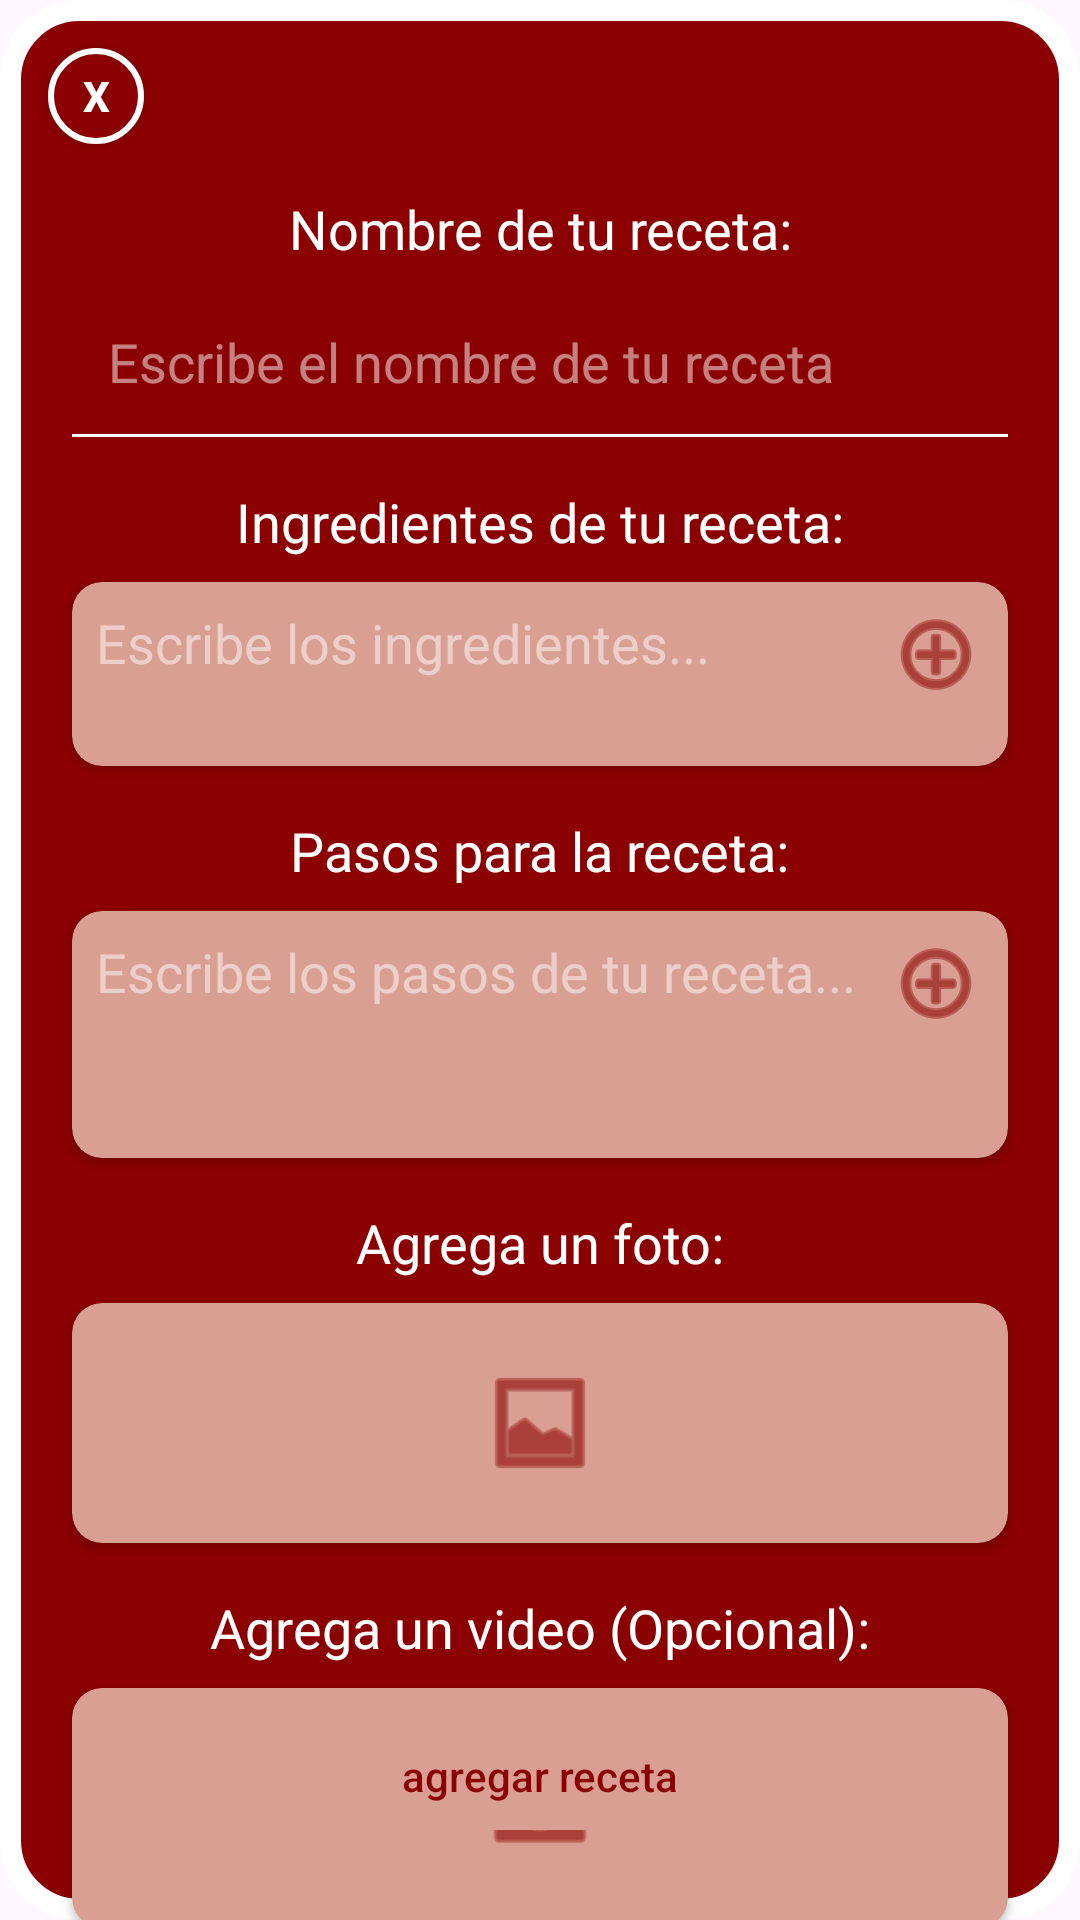

Icon bounding boxes for this 1080px x 1920px phone screenshot, format (x1, y1, x2, y2):
Agregar ingrediente: (901, 619, 971, 690)
Agregar paso: (901, 948, 971, 1019)
gallery: (495, 1378, 585, 1468)
